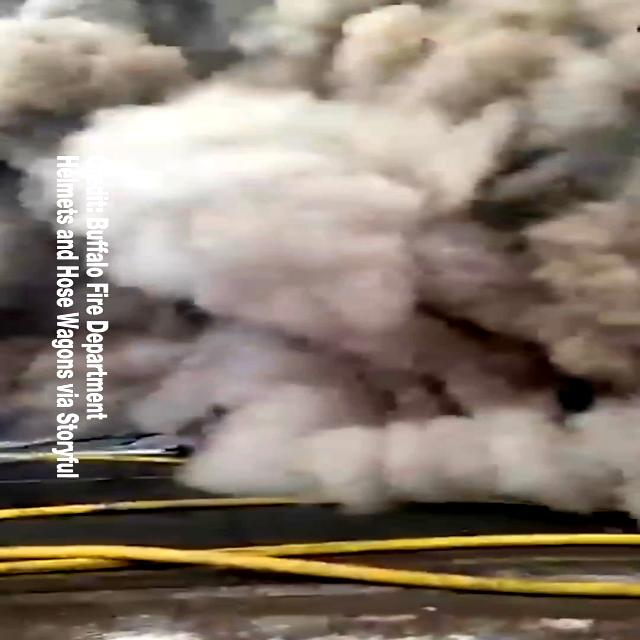no_helmet: (120, 1, 640, 511)
